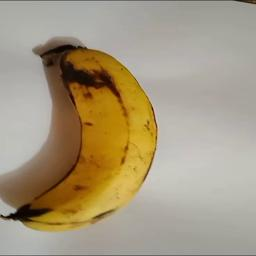Banana Semifresh: (2, 38, 161, 233)
